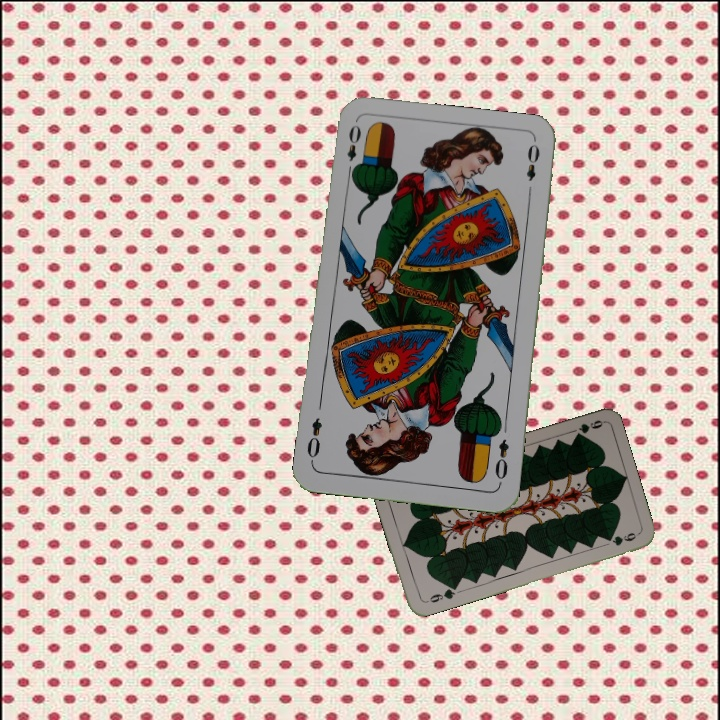EO: (343, 121, 364, 179), (490, 435, 512, 487)
G9: (421, 583, 459, 606), (571, 416, 606, 439)
